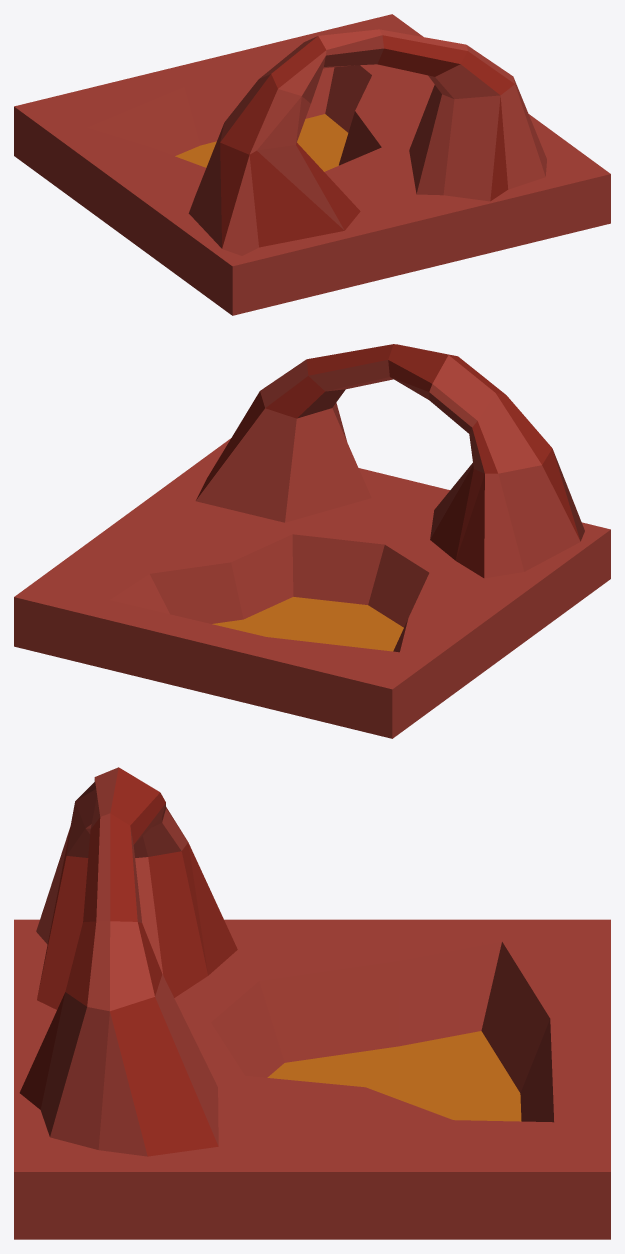
File: Field_7_digged.fbx
The picture shows the model from 3 angles, top to bottom: view 1: azimuth 30°, elevation 25°; view 2: azimuth 150°, elevation 25°; view 3: azimuth 270°, elevation 25°; orthographic projection. The views are drawn at different scales.
Parts seen in each view (by area): view 1: Plane.021; view 2: Plane.021; view 3: Plane.021.
Boxes of the visible parts, box(x1,y1,x2,y2) form: Plane.021: box(14, 14, 610, 315); Plane.021: box(14, 344, 610, 738); Plane.021: box(14, 767, 610, 1239).
Size of the model in its own units: 400 by 227 by 400.
